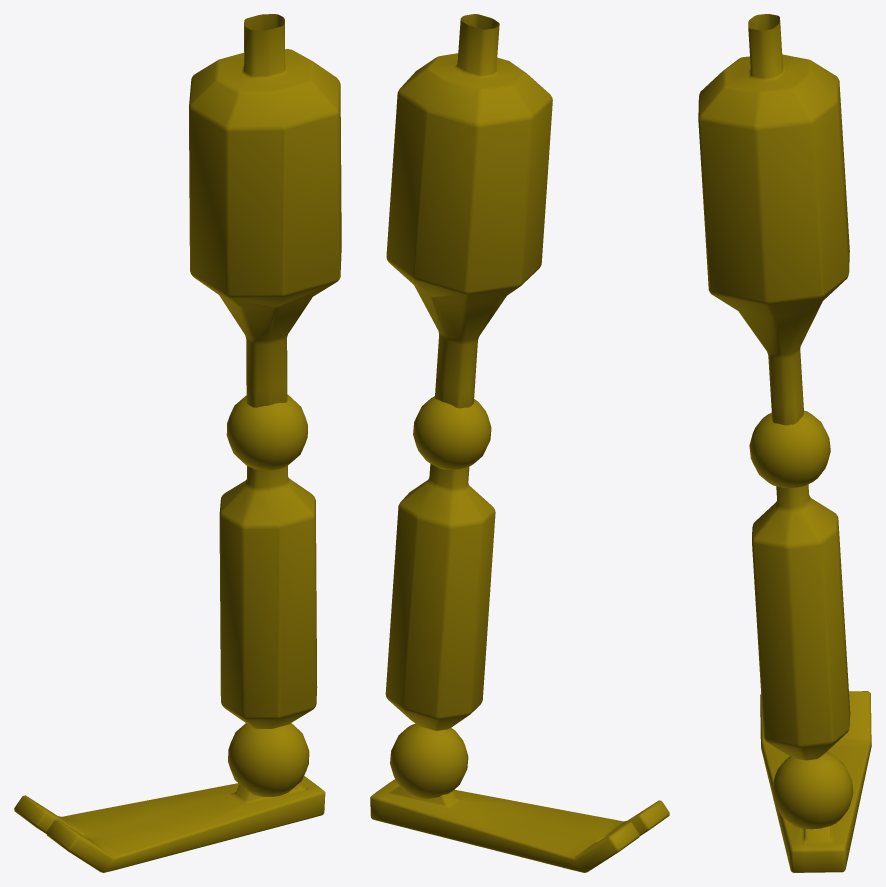
Rendered from Leg.FBX.
The picture shows the model from 3 angles, left to right: view 1: azimuth 30°, elevation 25°; view 2: azimuth 150°, elevation 25°; view 3: azimuth 270°, elevation 25°; orthographic projection. The views are drawn at different scales.
Visible parts, largest first — view 1: Leg; view 2: Leg; view 3: Leg.
Boxes of the visible parts, bbox=[...] form: Leg: bbox=[14, 14, 341, 872]; Leg: bbox=[370, 14, 669, 872]; Leg: bbox=[698, 14, 871, 872].
Bounding box in the file's own units: 0.1161 × 0.331 × 0.0637.
